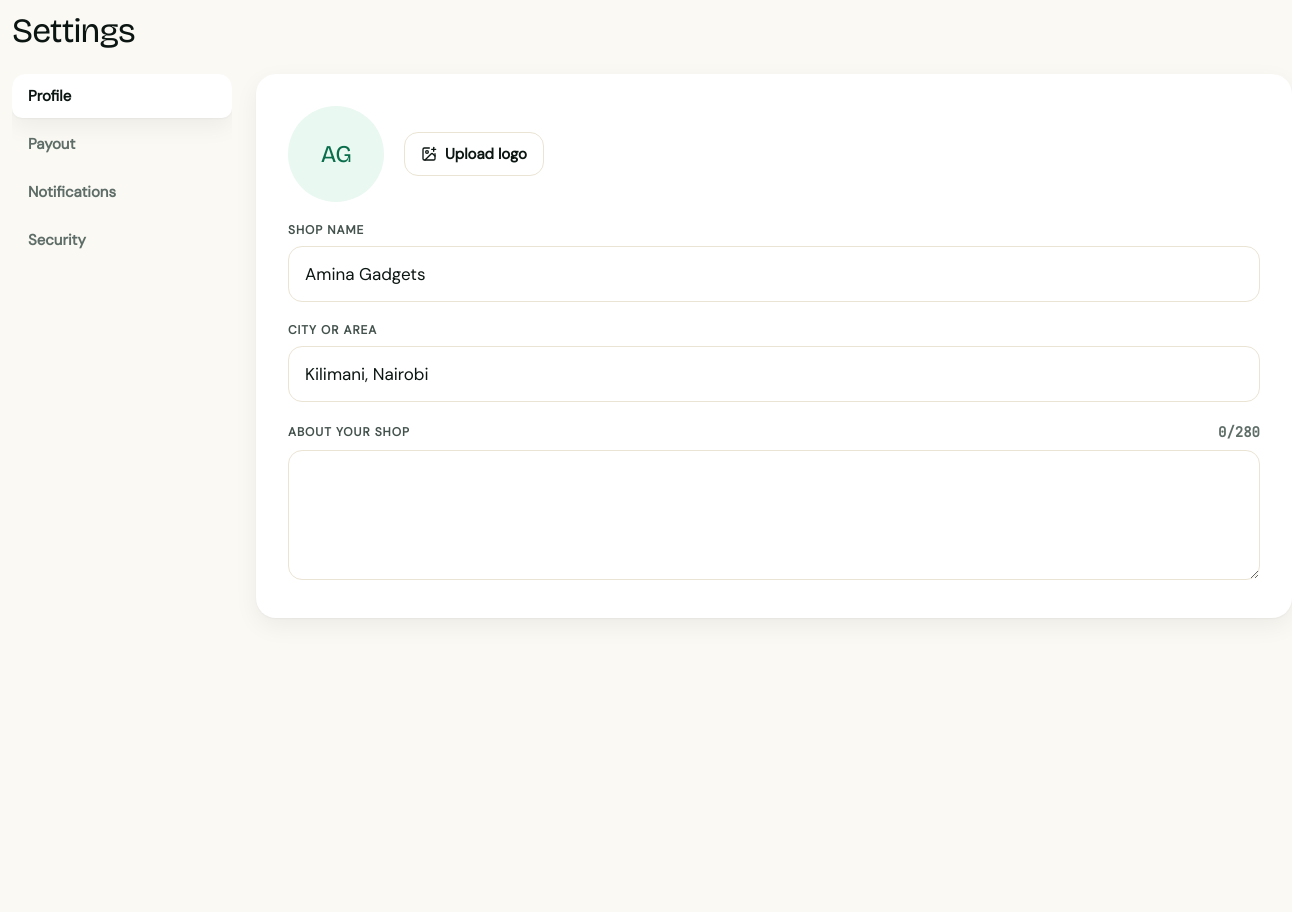
Test: S13 settings: profile › shows the save bar only when edited, and saves
The image size is (1292, 912).
Check: the text "You have unsaved changes" is not shown
Replace the text in the field labelled "Shop name" with "Amina Phones" at (774, 274), box [288,246,1260,302]
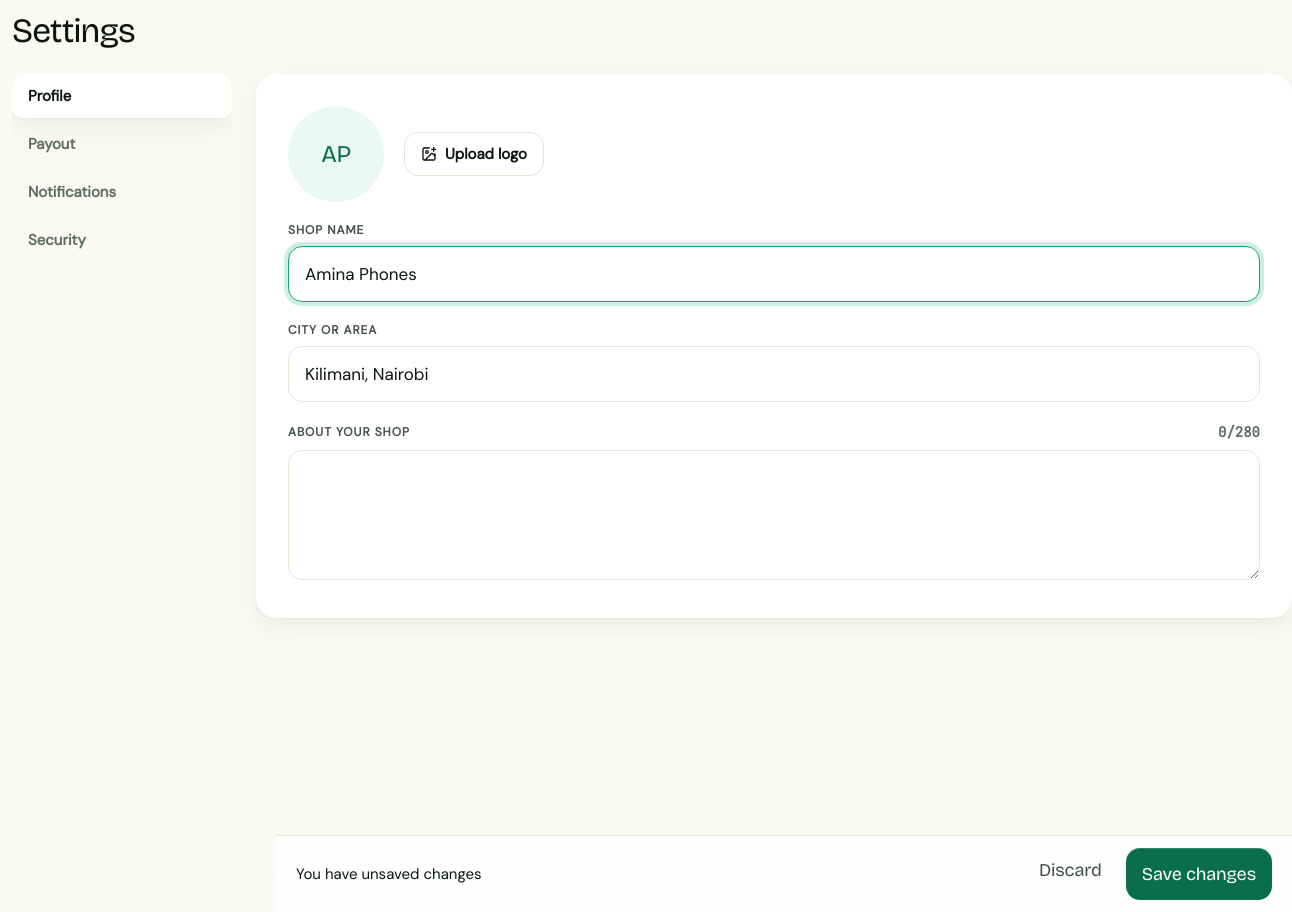
Check: the text "You have unsaved changes" is shown, box [296,864,482,884]
Click the button "Save changes" at (1199, 874), box [1126,848,1272,900]
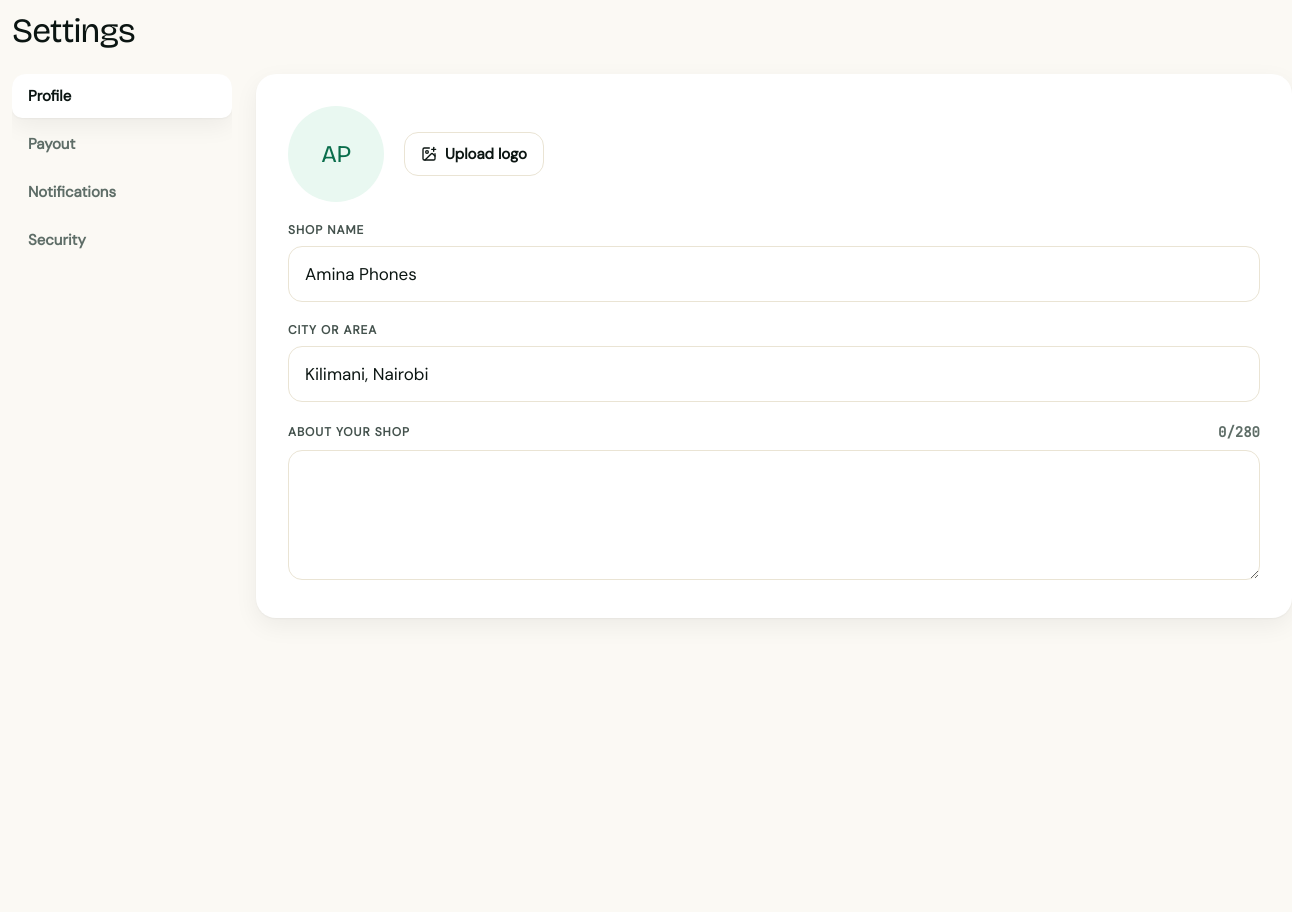
Check: the text "You have unsaved changes" is gone
